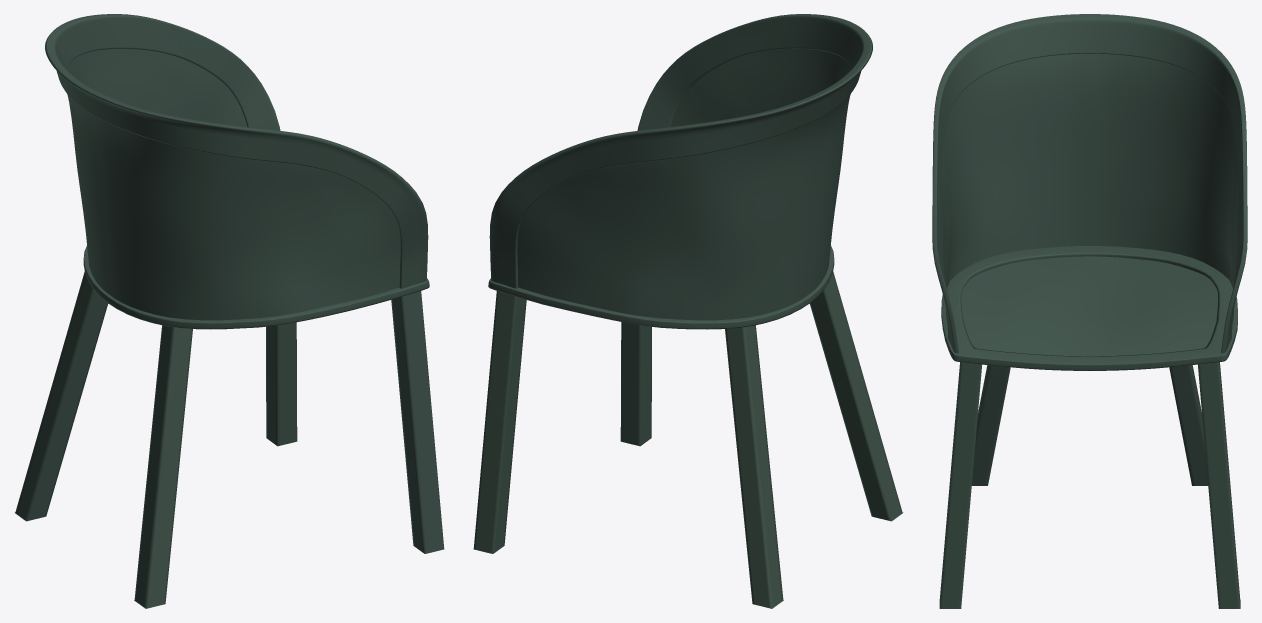
The model's file is MSH_Roof_Silla.fbx.
The picture shows the model from 3 angles, left to right: view 1: azimuth 30°, elevation 25°; view 2: azimuth 150°, elevation 25°; view 3: azimuth 270°, elevation 25°; orthographic projection. The views are drawn at different scales.
Parts seen in each view (by area): view 1: MSH_Roof_Silla; view 2: MSH_Roof_Silla; view 3: MSH_Roof_Silla.
Part boxes in pixels (x1=…): MSH_Roof_Silla: x1=14, y1=14, x2=444, y2=608; MSH_Roof_Silla: x1=473, y1=14, x2=903, y2=608; MSH_Roof_Silla: x1=932, y1=14, x2=1247, y2=608.
Size of the model in its own units: 76.6 by 119 by 74.36.
